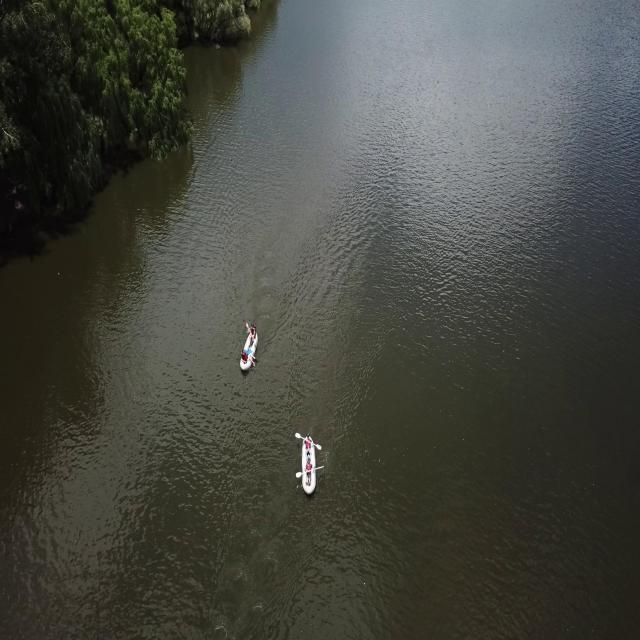kayak: (294, 432, 326, 500), (239, 322, 264, 375)
